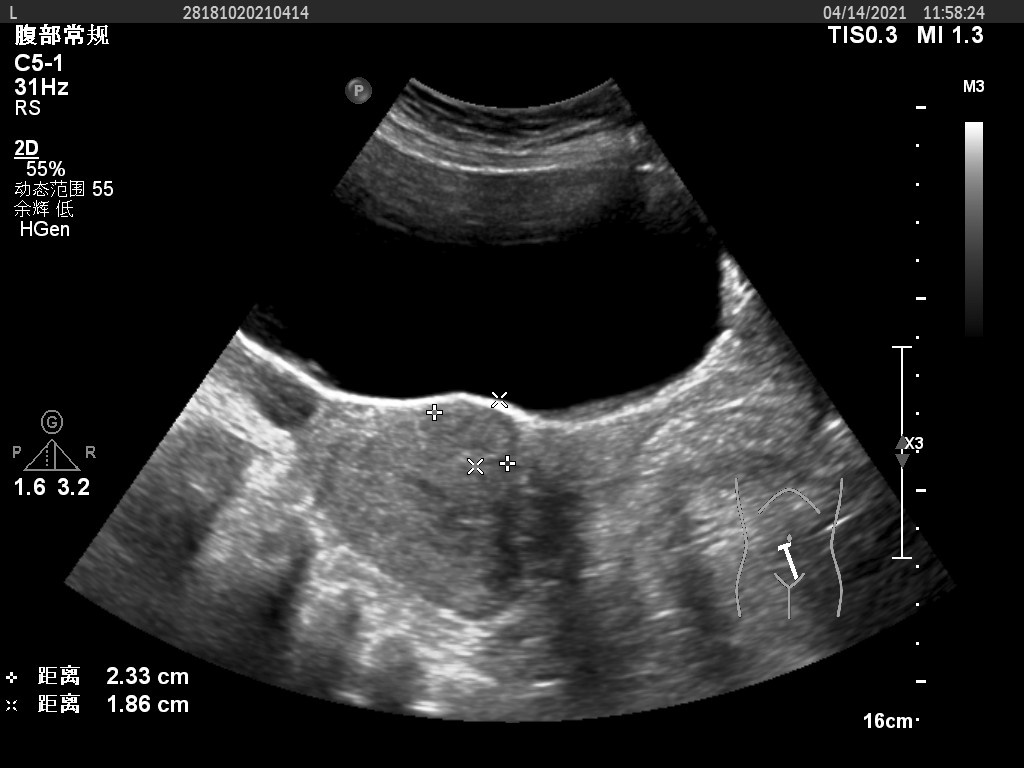肌瘤: (433, 396, 512, 467)
